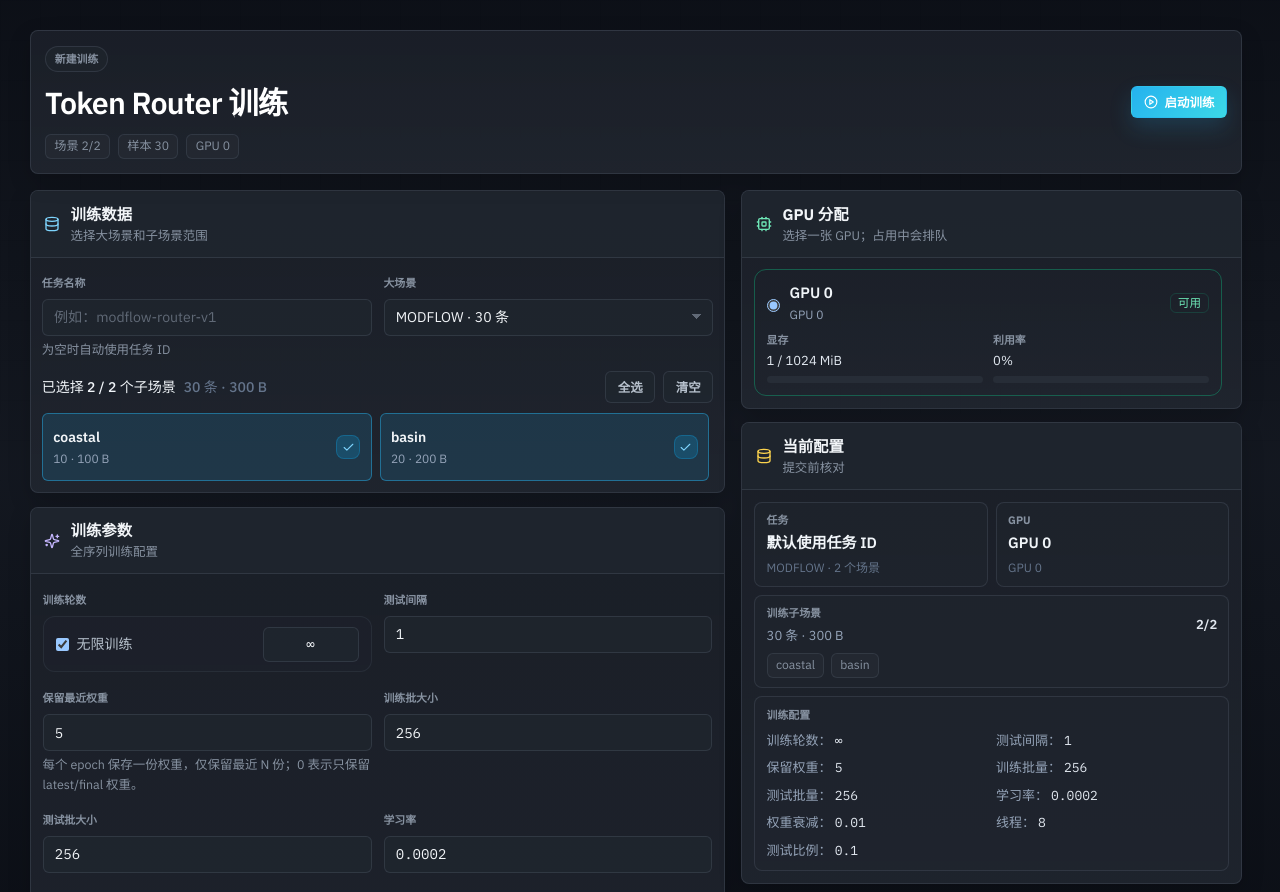
it: TrainingNewJobPage › keeps manual scenario selection when datasets refresh for the same simulator
Check: the text "已选择 2 / 2 个子场景30 条 · 300 B" is shown, box top-left (42, 376), bottom-right (267, 398)
Click the button "basin 20 · 200 B": x=409, y=437 top-left (380, 413), bottom-right (709, 481)
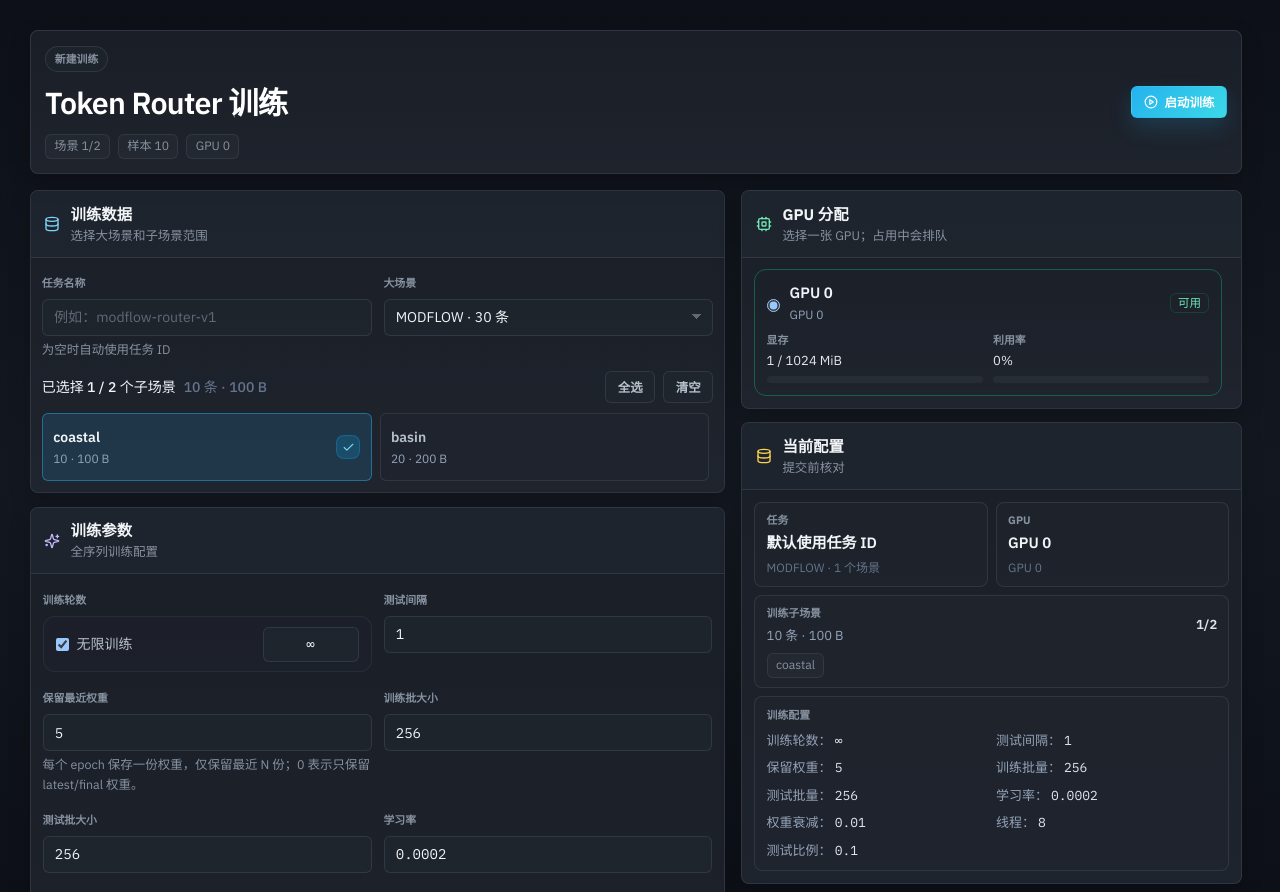
Check: the text "已选择 1 / 2 个子场景10 条 · 100 B" is shown, box top-left (42, 376), bottom-right (267, 398)
